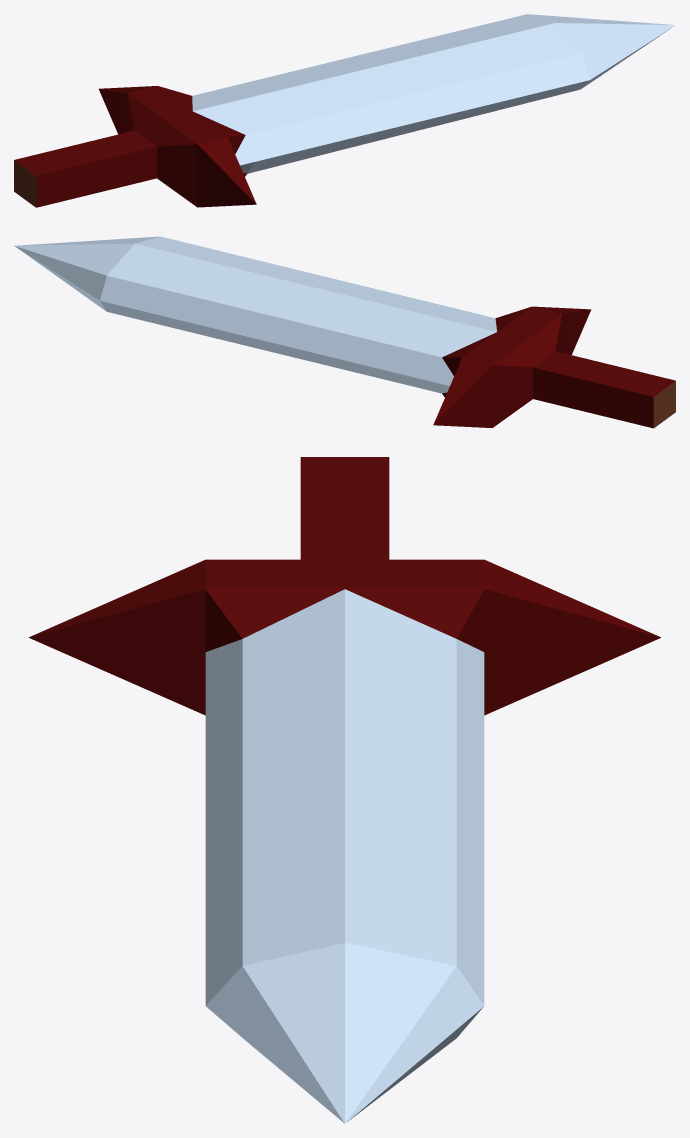
Rendered from knight_weapon.glb.
3 renders of one model, top to bottom at view 1: azimuth 30°, elevation 25°; view 2: azimuth 150°, elevation 25°; view 3: azimuth 270°, elevation 25°, orthographic. The views are drawn at different scales.
Visible parts, largest first — view 1: knight_weapon; view 2: knight_weapon; view 3: knight_weapon.
Part boxes in pixels (bbox=[...]): knight_weapon: bbox=[14, 14, 675, 207]; knight_weapon: bbox=[14, 236, 675, 428]; knight_weapon: bbox=[29, 457, 660, 1123].
Size of the model in its own units: 4.39 by 0.4075 by 1.85.
Materials: 1 (1 with a texture image).
